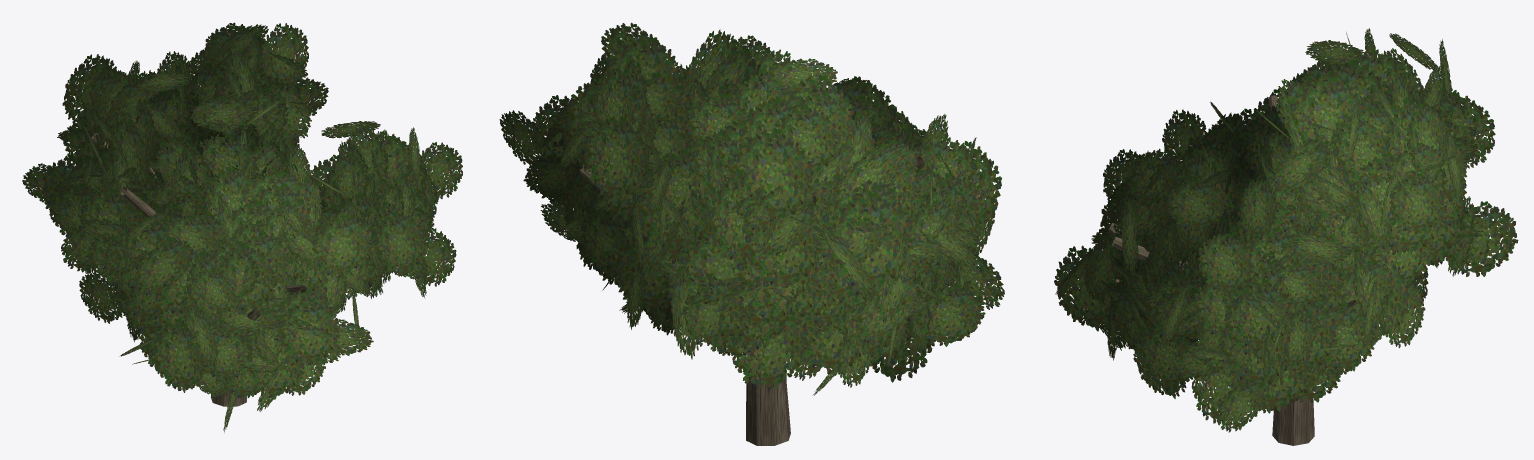
The model's file is Tree_Oak_Lone_1.gltf.
The picture shows the model from 3 angles, left to right: view 1: azimuth 30°, elevation 25°; view 2: azimuth 150°, elevation 25°; view 3: azimuth 270°, elevation 25°; orthographic projection. The views are drawn at different scales.
Visible parts, largest first — view 1: Tree_Oak_Lone_1; view 2: Tree_Oak_Lone_1; view 3: Tree_Oak_Lone_1.
Part boxes in pixels (x1,y1,x2,y2): Tree_Oak_Lone_1: (22,22,462,432); Tree_Oak_Lone_1: (499,22,1004,445); Tree_Oak_Lone_1: (1054,28,1518,445).
Bounding box in the file's own units: 16 × 12.89 × 14.58.
2 materials, 2 textured.
